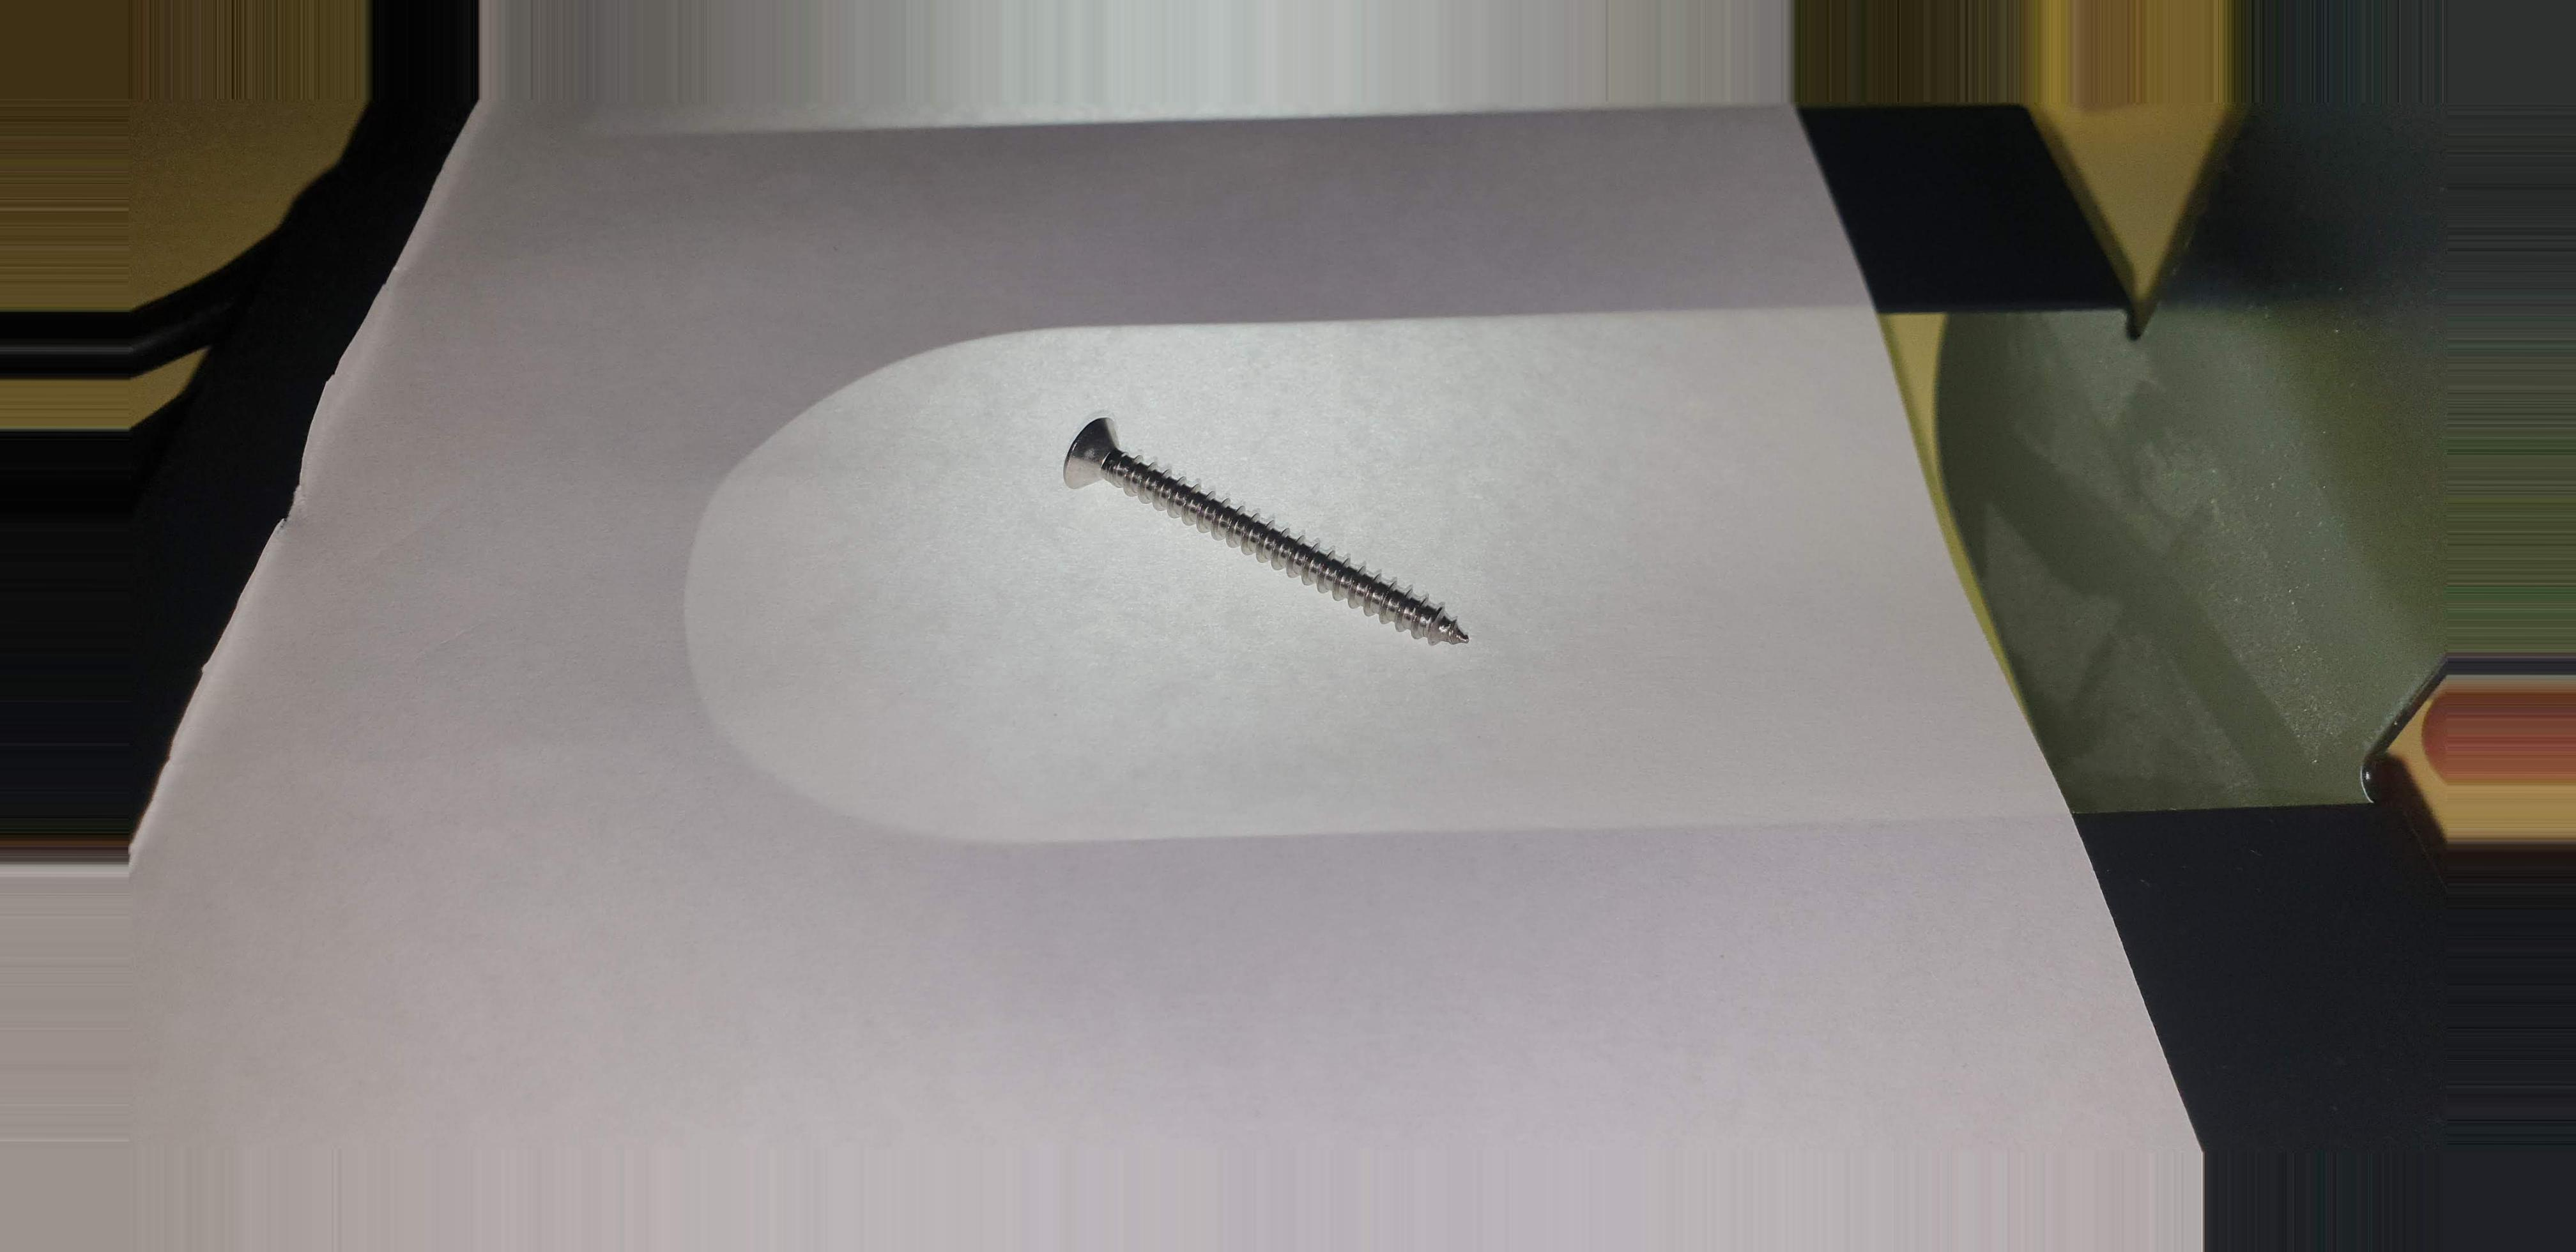fastener: (1030, 389, 1516, 687)
